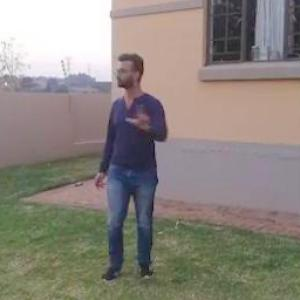land_hand: (123, 99, 156, 137)
